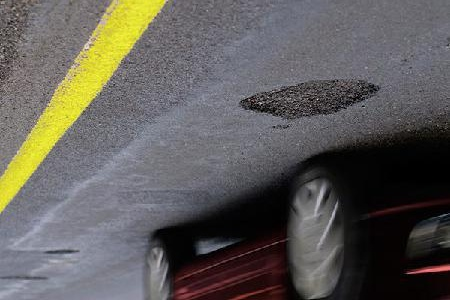pothole: (237, 78, 381, 121), (42, 248, 80, 258), (268, 122, 289, 131)
